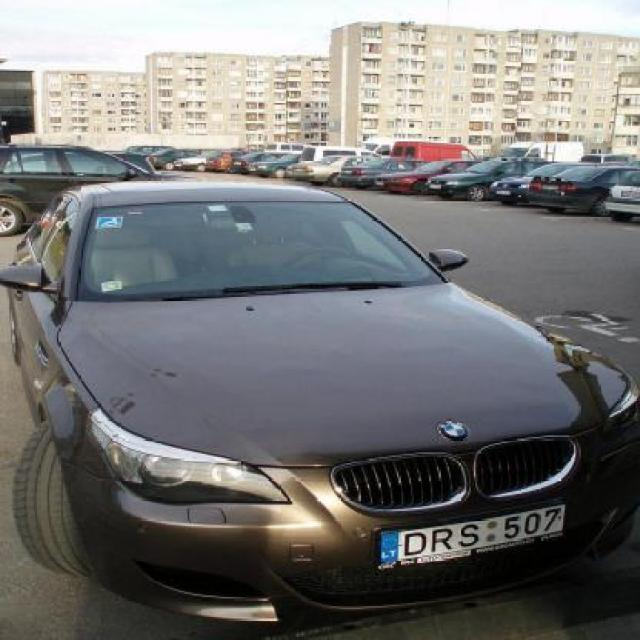License-Plates: (371, 501, 569, 574)
